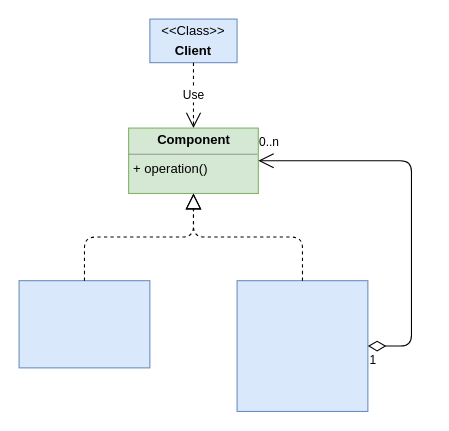
Some shapes in this 449 by 431 pixel diagram are drawn without their labels. The centre of each missing label's shape, as x and y in pixels:
"<<Class>> Composite + operation() + add() + remove() + getChild()" belongs at [302,345].
"<<Class>> Leaf + operation()" belongs at [84,324].
